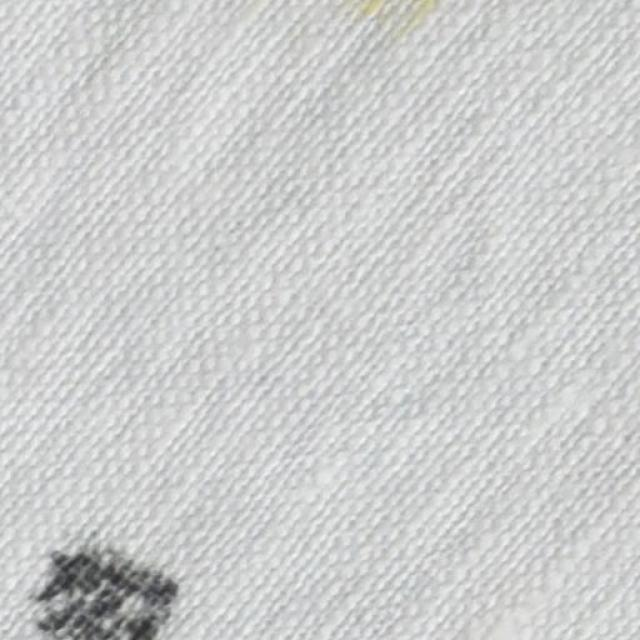Stain: (26, 544, 179, 639)
